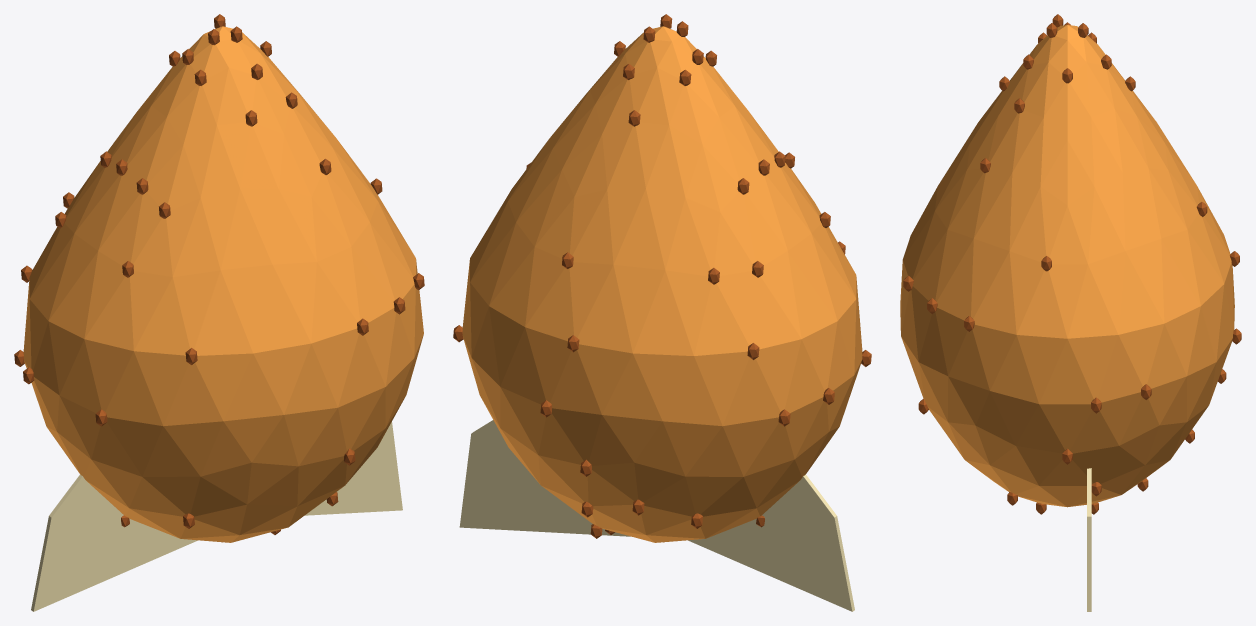
File: coxinha.obj
3 views of the same model, side by side, from view 1: azimuth 30°, elevation 25°; view 2: azimuth 150°, elevation 25°; view 3: azimuth 270°, elevation 25° (orthographic). The views are drawn at different scales.
Parts seen in each view (by area): view 1: A_DoughWithPinchHandle.001_coxinha_golden_crust, C_PaperFold0.001_coxinha_paper, B_FriedCrumbScatter.001_coxinha_toasted_crumb, C_PaperFold1.001_coxinha_paper; view 2: A_DoughWithPinchHandle.001_coxinha_golden_crust, C_PaperFold0.001_coxinha_paper, C_PaperFold1.001_coxinha_paper, B_FriedCrumbScatter.001_coxinha_toasted_crumb; view 3: A_DoughWithPinchHandle.001_coxinha_golden_crust, B_FriedCrumbScatter.001_coxinha_toasted_crumb, C_PaperFold1.001_coxinha_paper.
Boxes of the visible parts, x1,y1,x2,y2 form: A_DoughWithPinchHandle.001_coxinha_golden_crust: (23,26,423,542); C_PaperFold0.001_coxinha_paper: (31,474,197,611); B_FriedCrumbScatter.001_coxinha_toasted_crumb: (14,14,424,534); C_PaperFold1.001_coxinha_paper: (305,422,402,515); A_DoughWithPinchHandle.001_coxinha_golden_crust: (462,26,862,542); C_PaperFold0.001_coxinha_paper: (688,474,854,611); C_PaperFold1.001_coxinha_paper: (459,420,630,536); B_FriedCrumbScatter.001_coxinha_toasted_crumb: (453,14,871,538); A_DoughWithPinchHandle.001_coxinha_golden_crust: (900,25,1234,507); B_FriedCrumbScatter.001_coxinha_toasted_crumb: (903,14,1241,514); C_PaperFold1.001_coxinha_paper: (1087,468,1091,611).
Bounding box in the file's own units: 1.5 × 2.04 × 1.25.
